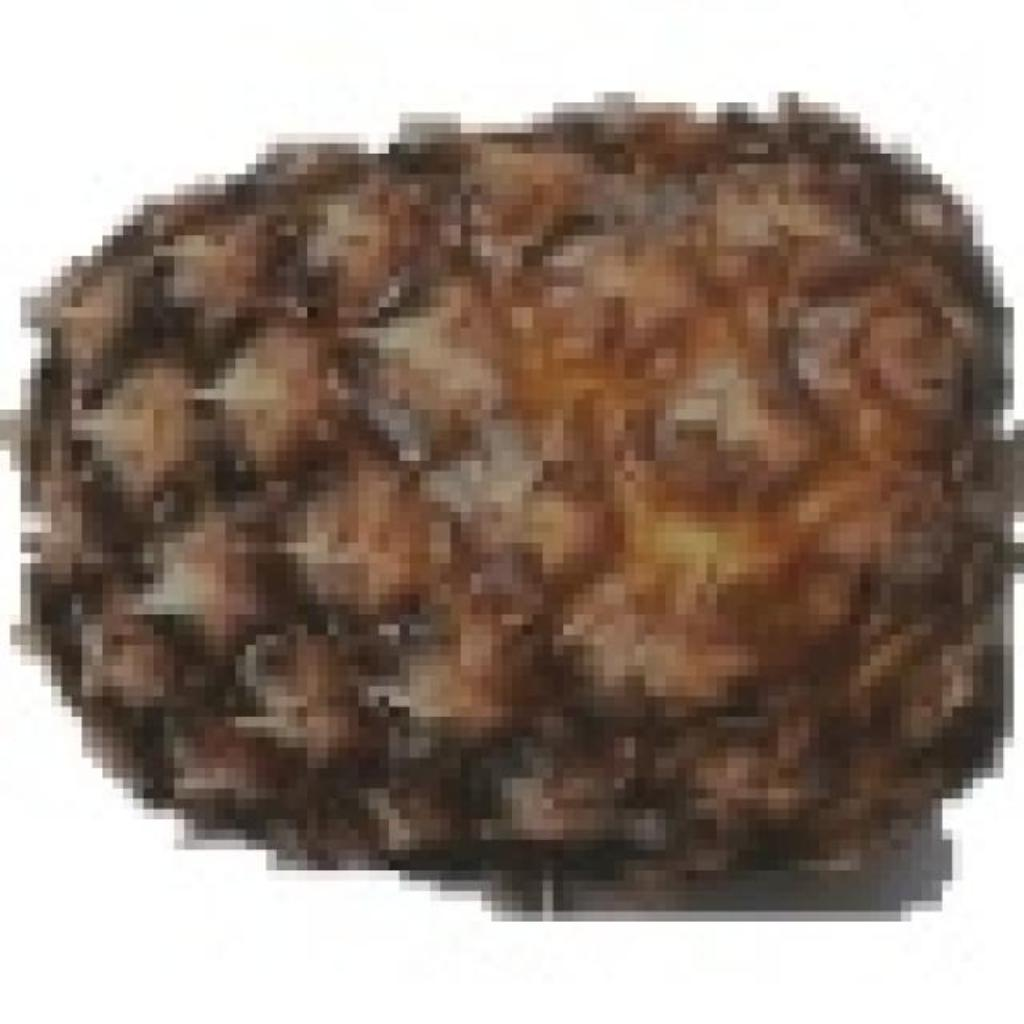pineapple: (10, 92, 983, 891)
